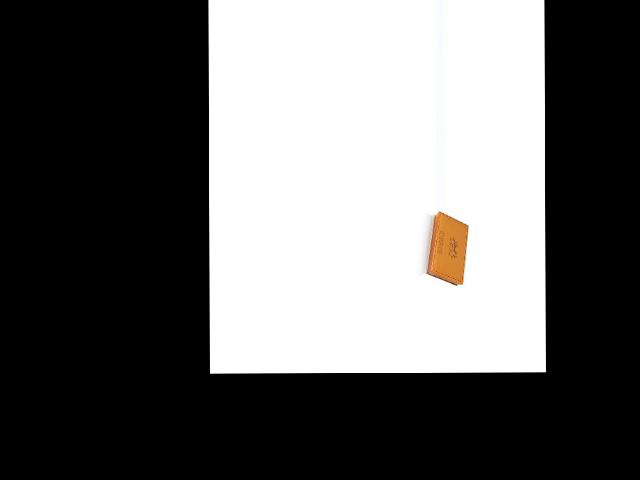chocolate: (420, 211, 471, 287)
